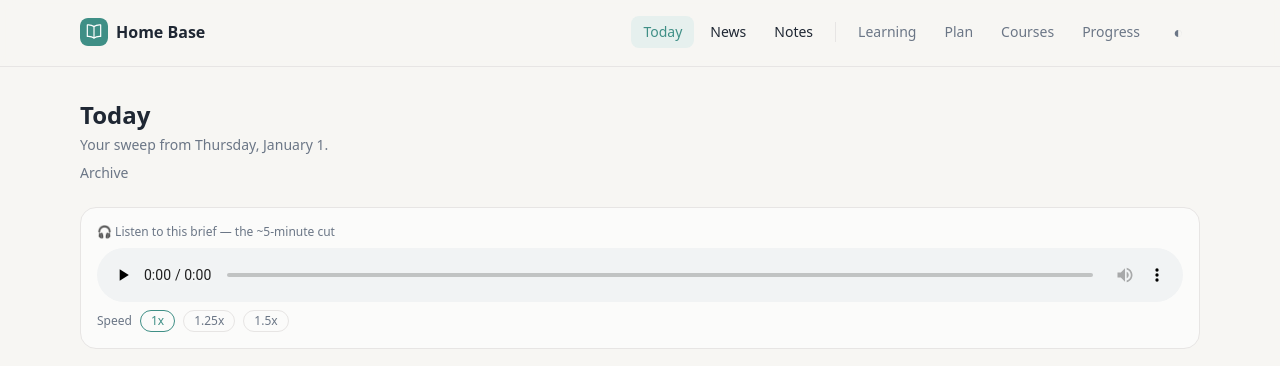
App shell navigation › no pill when the narration was never playing
The width and height of the screenshot is (1280, 366).
Expected: the text "🎧 Listen to this brief — the ~5-minute cut" is shown, [97, 223, 335, 240]
Click the link "Notes": point(794, 32) [774, 22, 813, 41]
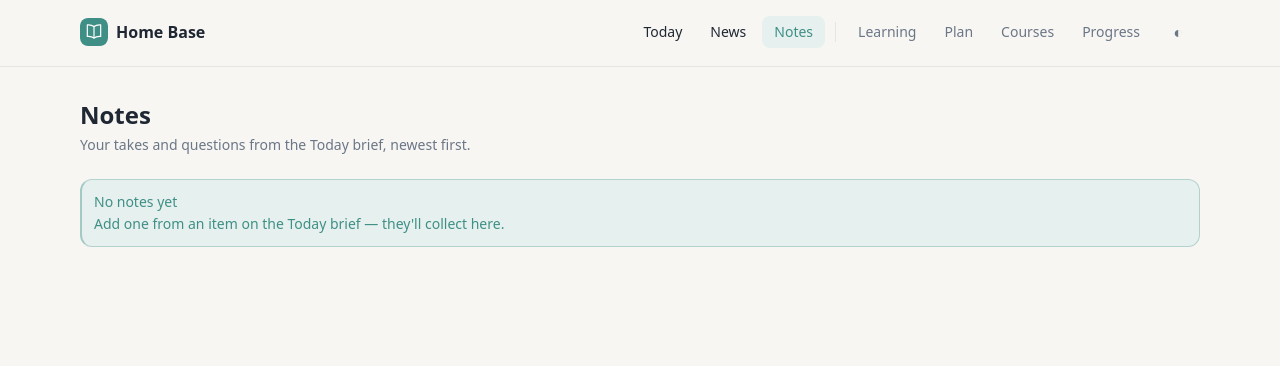
Expected: the text "No notes yet" is shown, [94, 192, 177, 211]
